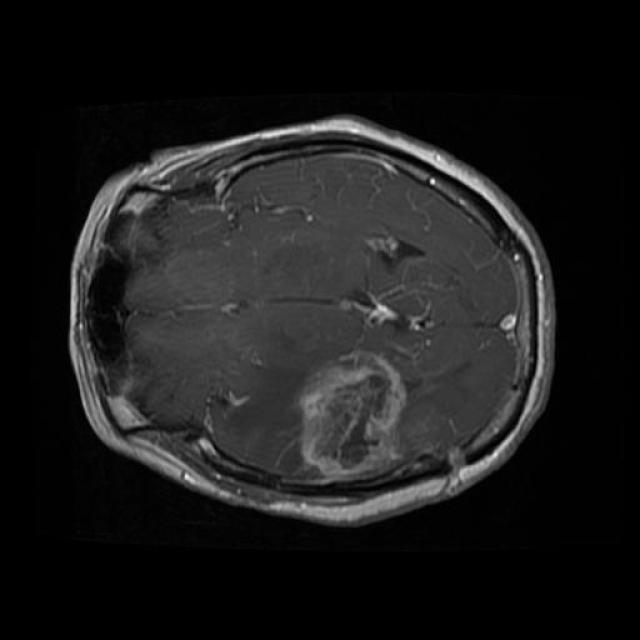Glioma: (296, 350, 406, 476)
